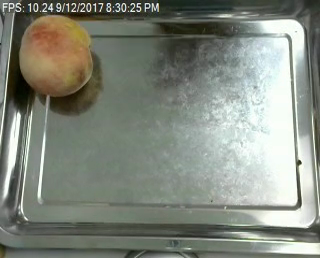Peach: (18, 13, 94, 98)
